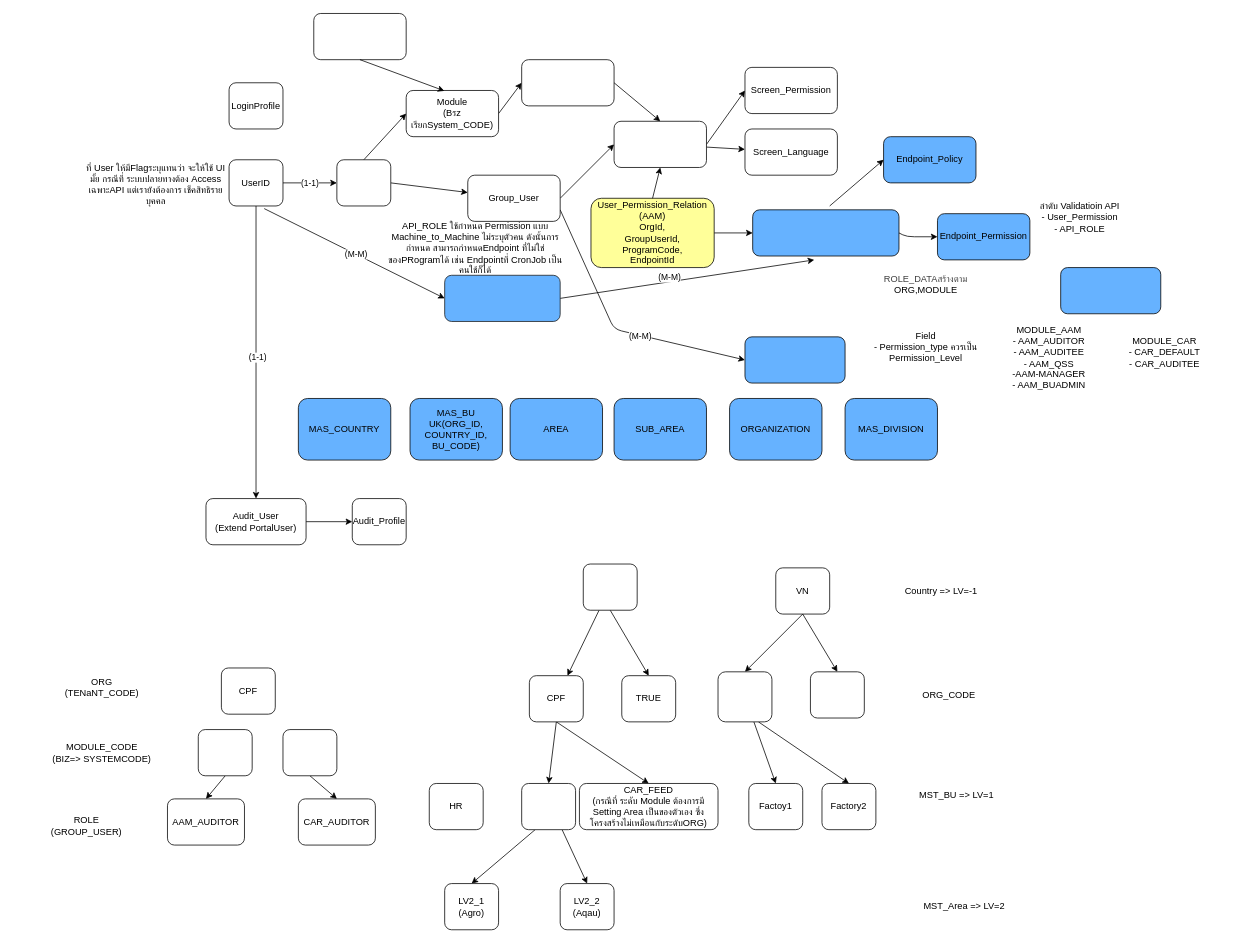
This 1250x943 diagram has some shape labels left out. Here are the shapes that lost their labels. From the top down, the centre of each, then its label:
At [359,36]: "SYSTEM (BizเรียกPlatform)".
At [567,82]: "Menu-Info".
At [659,144]: "User_Permission (Program_Access)".
At [363,182]: "Org (TenantCode)".
At [825,232]: "Endpoint_Policy_MAPPIMNG".
At [502,298]: "API_Role (MAS_ROLE_AUFITHUB) ต้องมี Colum OrgIdสำหรับ filter".
At [1110,290]: "ROLE_DATA EXAMPLE".
At [794,359]: "Data_Level_Permission (Account_Permission)".
At [610,586]: "TH".
At [744,696]: "CPVN".
At [837,694]: "AXTRAVN".
At [225,752]: "AAM".
At [309,752]: "CAR".
At [548,806]: "FEED".
